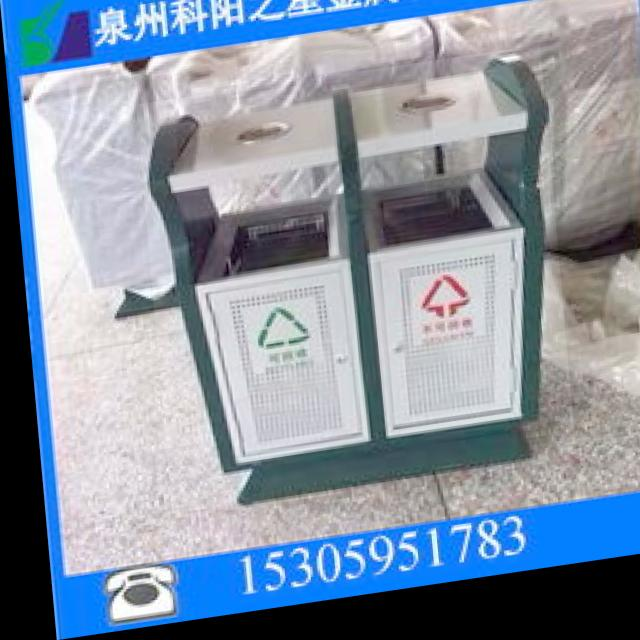garbage_bin: (134, 61, 567, 517)
